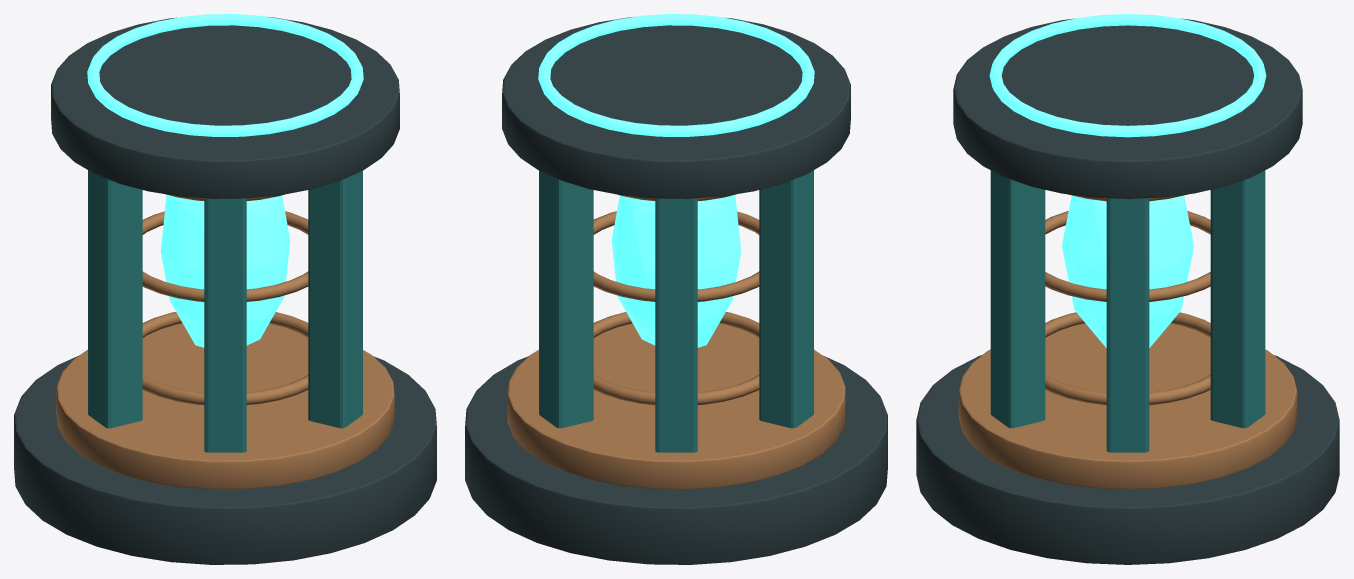
File: SM_AetherReactor.fbx
3 views of the same model, side by side, from view 1: azimuth 30°, elevation 25°; view 2: azimuth 150°, elevation 25°; view 3: azimuth 270°, elevation 25° (orthographic).
Parts seen in each view (by area): view 1: SM_AetherReactor; view 2: SM_AetherReactor; view 3: SM_AetherReactor.
Part boxes in pixels (bbox=[...]): SM_AetherReactor: bbox=[14, 14, 436, 564]; SM_AetherReactor: bbox=[465, 14, 887, 564]; SM_AetherReactor: bbox=[916, 14, 1339, 564].
Size of what is drawn, in the model's own units: 1.6 by 1.6 by 1.69.
